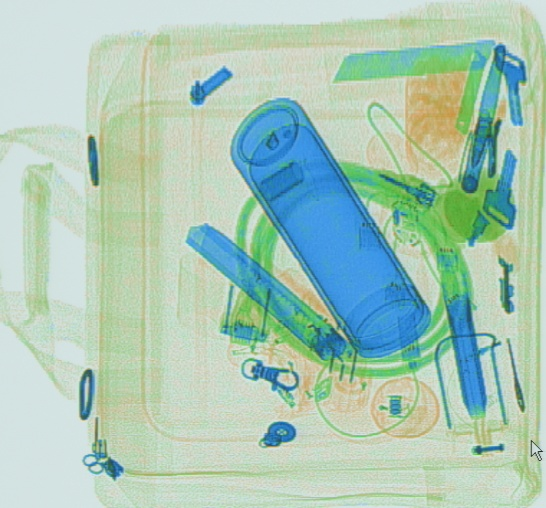knife: (181, 219, 358, 366), (330, 38, 498, 81), (454, 47, 486, 134)
